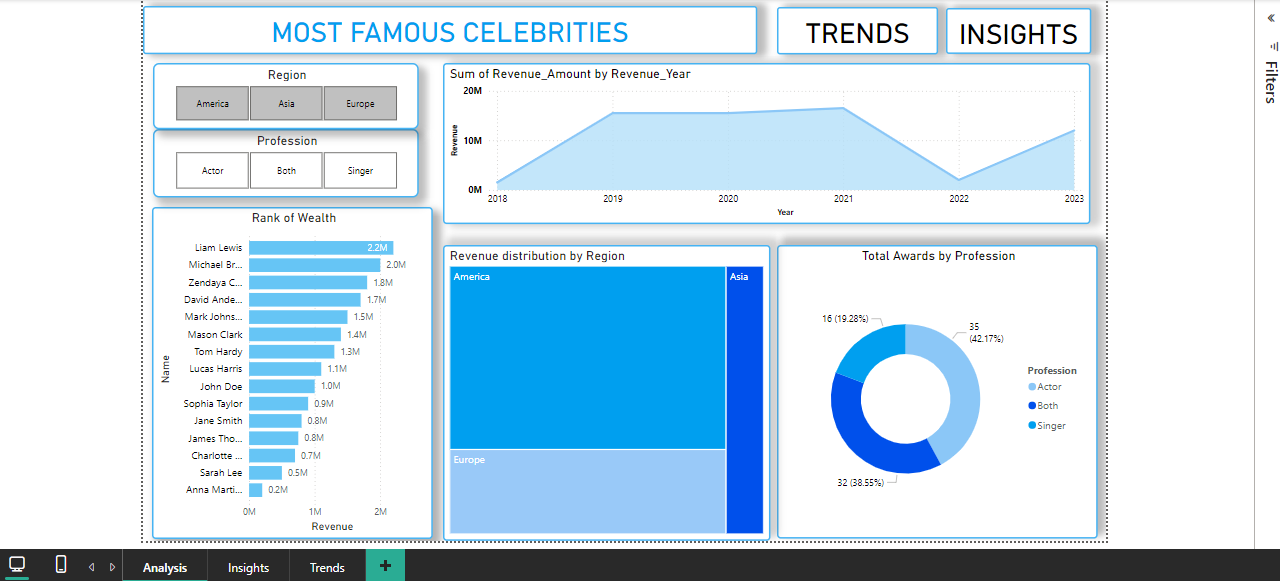

What the dashboard file says about the page in this screenshot:
{"tool":"powerbi","page":{"name":"Analysis","canvas":[1280,720],"ordinal":0},"visuals":[{"type":"clusteredBarChart","title":"Rank of Wealth ","fields":{"Category":["People.Full_Name"],"Y":["success.Revenue_Generated"]},"box":[12,276.3,373.4,440.7],"z":0},{"type":"slicer","title":"Profession","fields":{"Values":["People.Profession"]},"box":[13.4,173.3,352.5,91.1],"z":1000},{"type":"slicer","title":"Region","fields":{"Values":["peop_region.Region_Name"]},"box":[13.4,85.1,352.5,88.1],"z":2000},{"type":"areaChart","fields":{"Category":["revenue.Revenue_Year"],"Y":["revenue.Revenue_Amount"]},"box":[398.8,85.1,860.4,213.6],"z":3000},{"type":"donutChart","title":"Total Awards by Profession","fields":{"Category":["People.Profession"],"Y":["success.Total_Awards"]},"box":[842.5,327.1,425.7,389.9],"z":4000},{"type":"treemap","title":"Revenue distribution by Region","fields":{"Group":["peop_region.Region_Name"],"Values":["revenue.Revenue_Amount"]},"box":[398.8,327.1,434.7,392.9],"z":5000},{"type":"actionButton","box":[842.5,10.5,213.6,62.7],"z":6000},{"type":"actionButton","box":[1066.6,12,192.7,61.2],"z":7000},{"type":"actionButton","box":[0,9,815.6,64.2],"z":8000}]}

Visuals, with their boxes in screenshot pixels (x1, y1, x2, y2):
"Rank of Wealth " clusteredBarChart: detection(139, 205, 425, 543)
"Profession" slicer: detection(140, 126, 410, 196)
"Region" slicer: detection(140, 59, 410, 126)
areaChart - revenue.Revenue_Year x revenue.Revenue_Amount: detection(436, 59, 1095, 222)
"Total Awards by Profession" donutChart: detection(776, 244, 1102, 543)
"Revenue distribution by Region" treemap: detection(436, 244, 769, 545)
actionButton: detection(776, 1, 939, 49)
actionButton: detection(947, 3, 1095, 49)
actionButton: detection(130, 0, 755, 49)
